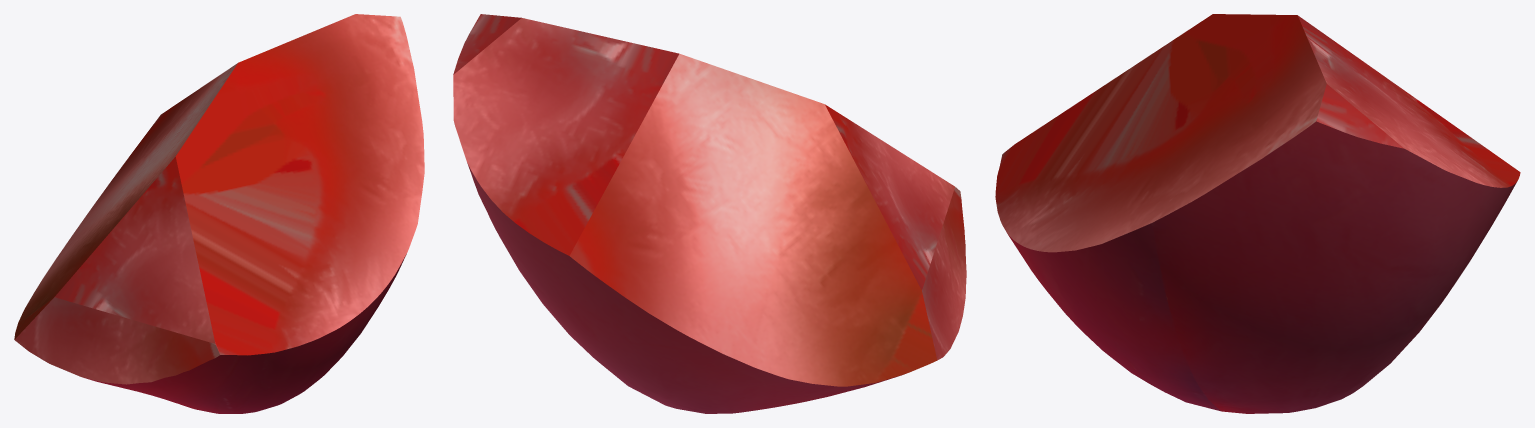
The model's file is SM_HeartPiece_2_.FBX.
3 views of the same model, side by side, from view 1: azimuth 30°, elevation 25°; view 2: azimuth 150°, elevation 25°; view 3: azimuth 270°, elevation 25° (orthographic). The views are drawn at different scales.
Parts seen in each view (by area): view 1: SM_HeartPiece_2_; view 2: SM_HeartPiece_2_; view 3: SM_HeartPiece_2_.
Part boxes in pixels (bbox=[...]): SM_HeartPiece_2_: bbox=[14, 14, 424, 413]; SM_HeartPiece_2_: bbox=[453, 14, 966, 413]; SM_HeartPiece_2_: bbox=[995, 14, 1520, 413].
Size of the model in its own units: 351 by 317 by 274.
